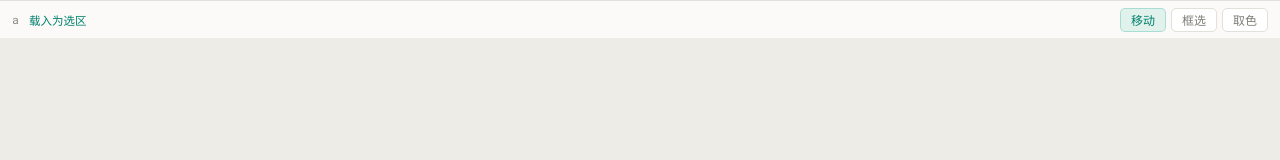
Test: ContextBar › disables 载入为选区 and shows progress while the scan is in flight
Click the button "载入为选区". click: (58, 20)
box: [29, 10, 86, 30]
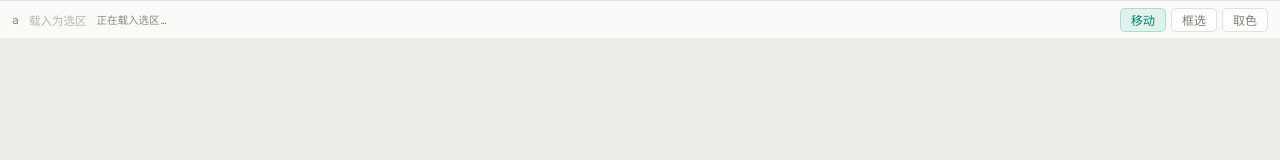
Now the button "载入为选区" is disabled
Now the text "正在载入选区…" is shown, box [96, 12, 166, 27]
Click the button "载入为选区". click: (58, 20)
box: [29, 10, 86, 30]
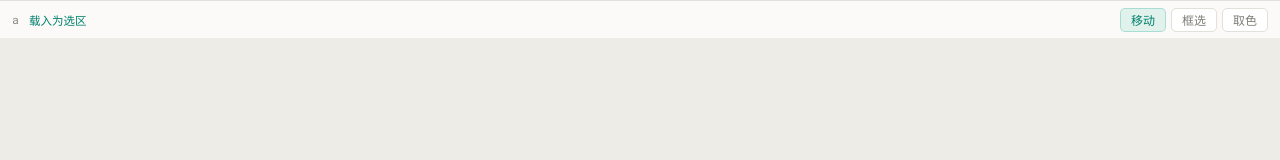
Now the button "载入为选区" is enabled, box [29, 10, 86, 30]
Now the text "正在载入选区…" is gone
